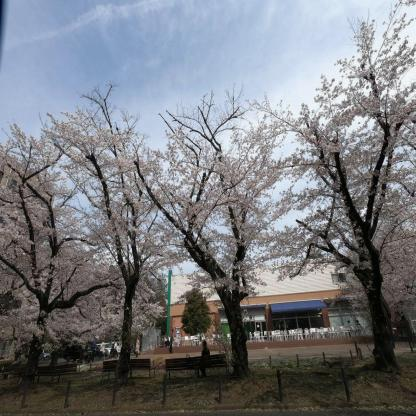Someiyoshino: (42, 102, 203, 356), (143, 84, 313, 309), (284, 1, 416, 288), (0, 118, 125, 392)
